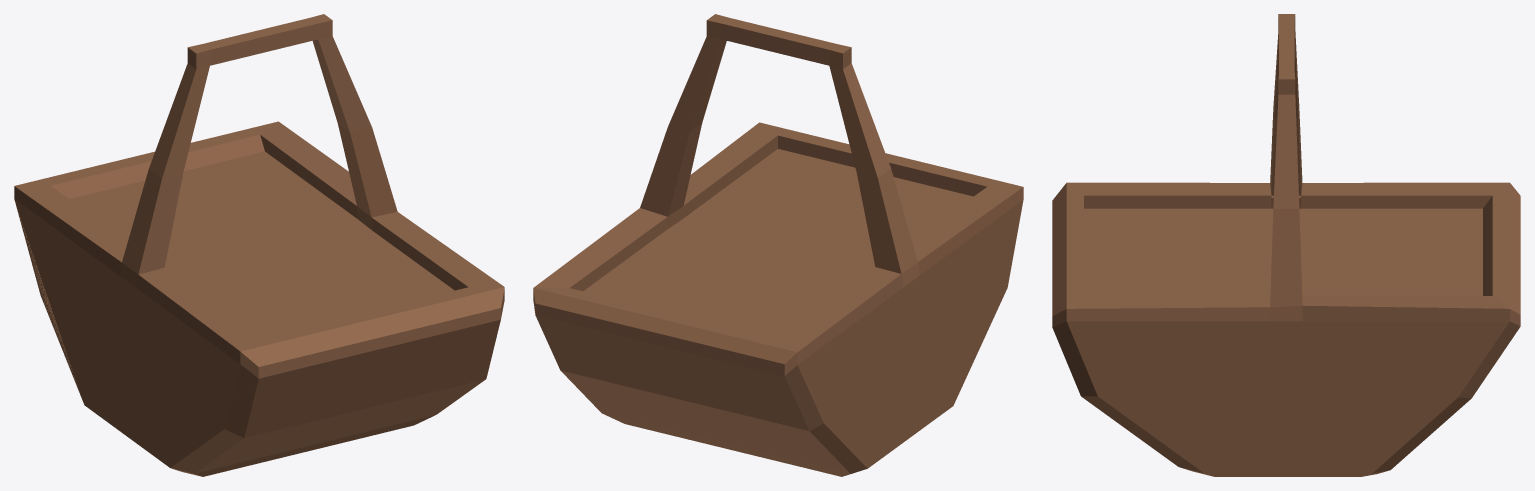
Rendered from Canasta.fbx.
3 renders of one model, left to right at view 1: azimuth 30°, elevation 25°; view 2: azimuth 150°, elevation 25°; view 3: azimuth 270°, elevation 25°, orthographic. The views are drawn at different scales.
Parts seen in each view (by area): view 1: Cube, Cube.006; view 2: Cube, Cube.006; view 3: Cube, Cube.006.
Part boxes in pixels (bbox=[...]): Cube: bbox=[14, 14, 504, 476]; Cube.006: bbox=[69, 151, 454, 338]; Cube: bbox=[533, 14, 1023, 476]; Cube.006: bbox=[583, 149, 973, 338]; Cube: bbox=[1052, 14, 1520, 476]; Cube.006: bbox=[1084, 208, 1482, 295].
Bounding box in the file's own units: 356 × 494 × 558.
